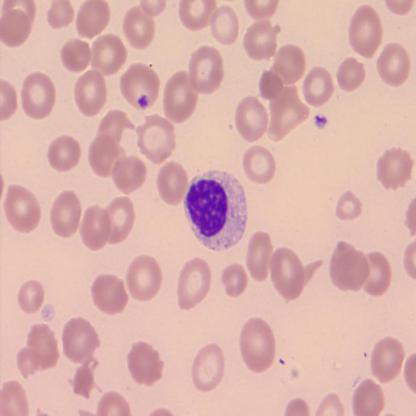Myelocyte: (185, 169, 248, 248)
